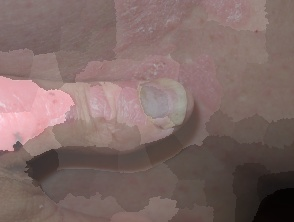Nail_psoriasis: (111, 70, 192, 133)
